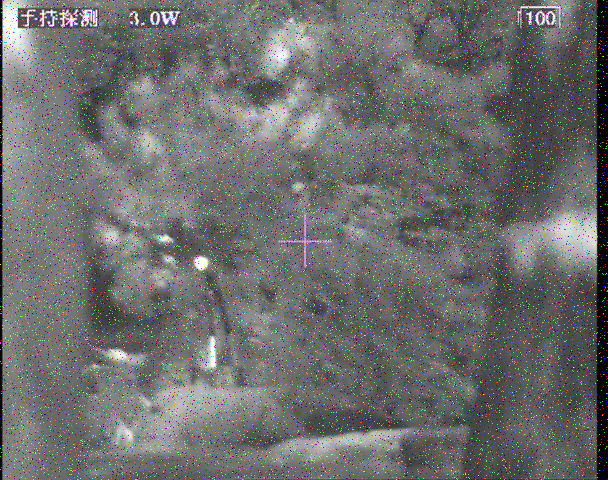my: (192, 254, 209, 271)
